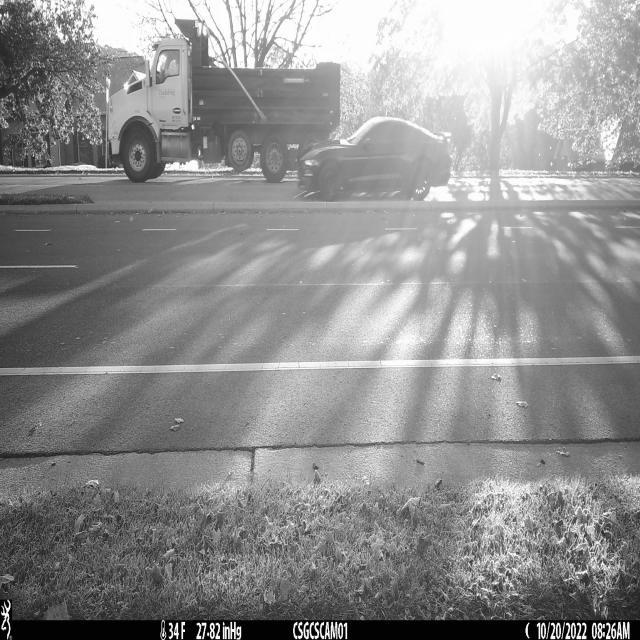Box Truck: (105, 16, 341, 183)
Sedan: (298, 117, 451, 201)
